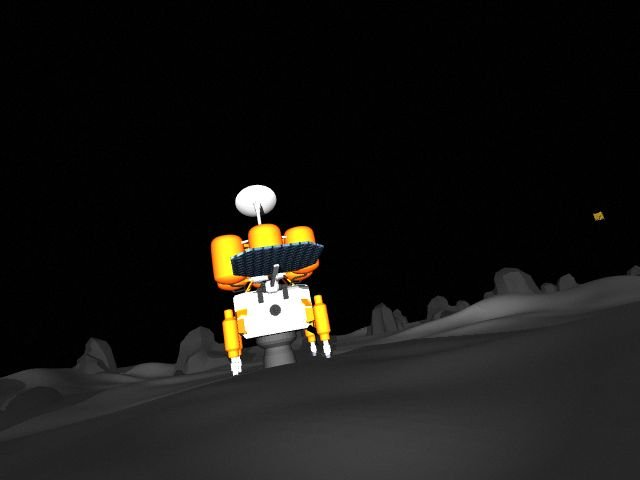homebase: (209, 183, 334, 378)
